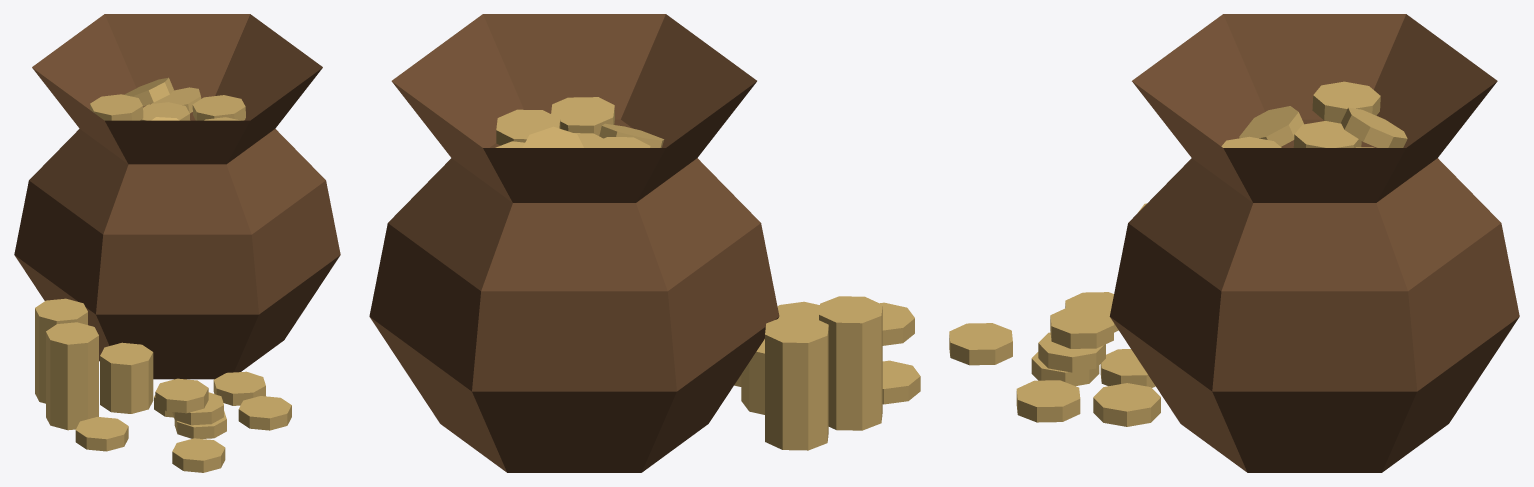
The model's file is Gold.fbx.
3 renders of one model, left to right at view 1: azimuth 30°, elevation 25°; view 2: azimuth 150°, elevation 25°; view 3: azimuth 270°, elevation 25°, orthographic. The views are drawn at different scales.
Parts seen in each view (by area): view 1: Gold; view 2: Gold; view 3: Gold.
Boxes of the visible parts, x1,y1,x2,y2 form: Gold: (14,14,340,472); Gold: (369,14,920,472); Gold: (949,14,1519,472).
Size of the model in its own units: 0.309 by 0.2614 by 0.3943.
